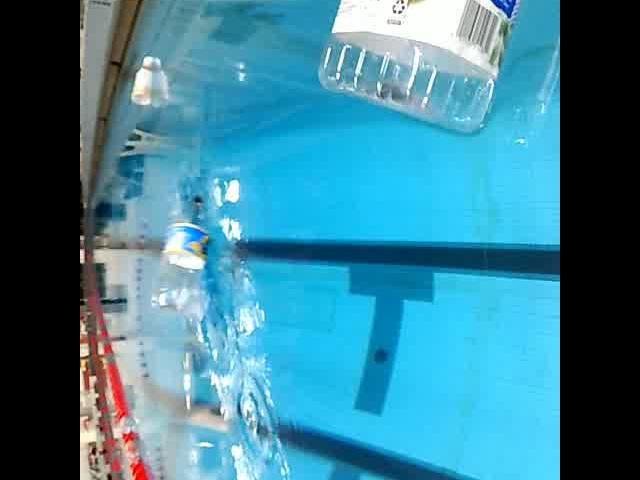Bottle: (312, 0, 541, 139), (146, 176, 218, 333), (125, 50, 161, 112)
